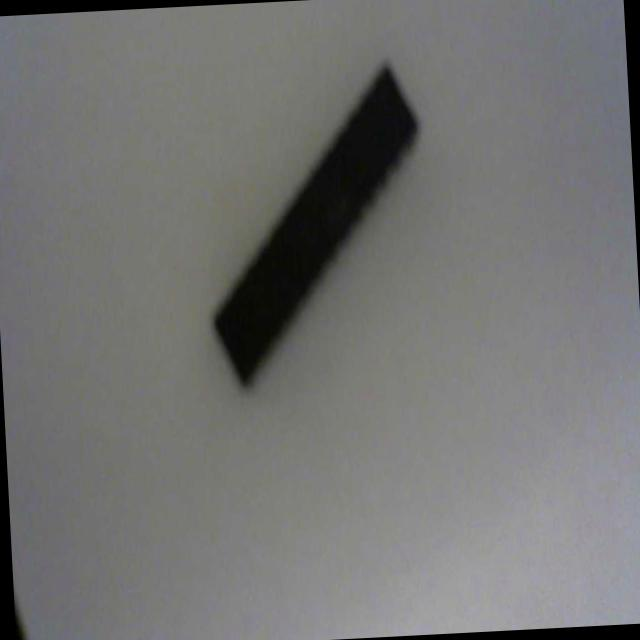atmega: (197, 54, 436, 394)
